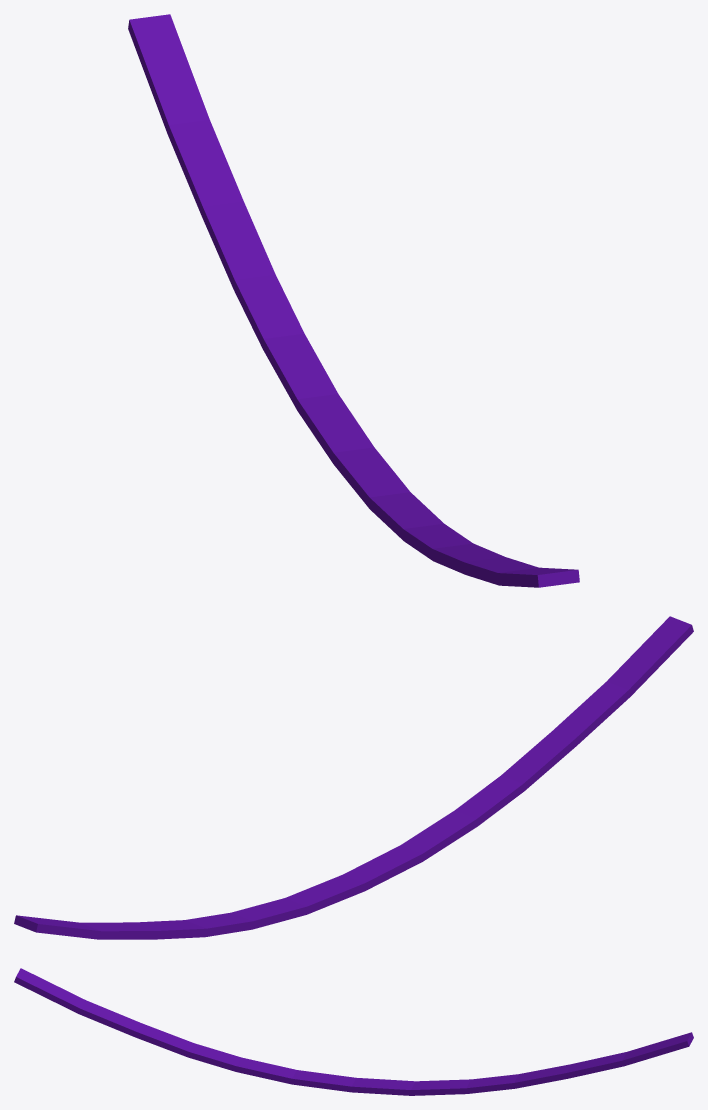
The model's file is Tape_20_chunks.fbx.
The picture shows the model from 3 angles, top to bottom: view 1: azimuth 30°, elevation 25°; view 2: azimuth 150°, elevation 25°; view 3: azimuth 270°, elevation 25°; orthographic projection. The views are drawn at different scales.
Parts seen in each view (by area): view 1: Tape_20_3, Tape_20_2, Tape_20_0, Tape_20_1; view 2: Tape_20_0, Tape_20_3, Tape_20_1, Tape_20_2; view 3: Tape_20_0, Tape_20_2, Tape_20_3, Tape_20_1.
Boxes of the visible parts, x1,y1,x2,y2 form: Tape_20_3: [128, 14, 316, 425]; Tape_20_2: [222, 149, 366, 436]; Tape_20_0: [388, 501, 579, 587]; Tape_20_1: [308, 420, 419, 534]; Tape_20_0: [416, 616, 693, 835]; Tape_20_3: [14, 896, 331, 939]; Tape_20_1: [324, 833, 467, 907]; Tape_20_2: [105, 879, 330, 924]; Tape_20_0: [14, 968, 275, 1077]; Tape_20_2: [364, 1065, 618, 1095]; Tape_20_3: [390, 1032, 693, 1082]; Tape_20_1: [262, 1063, 390, 1093].
Size of the model in its own units: 195 by 103 by 762.
